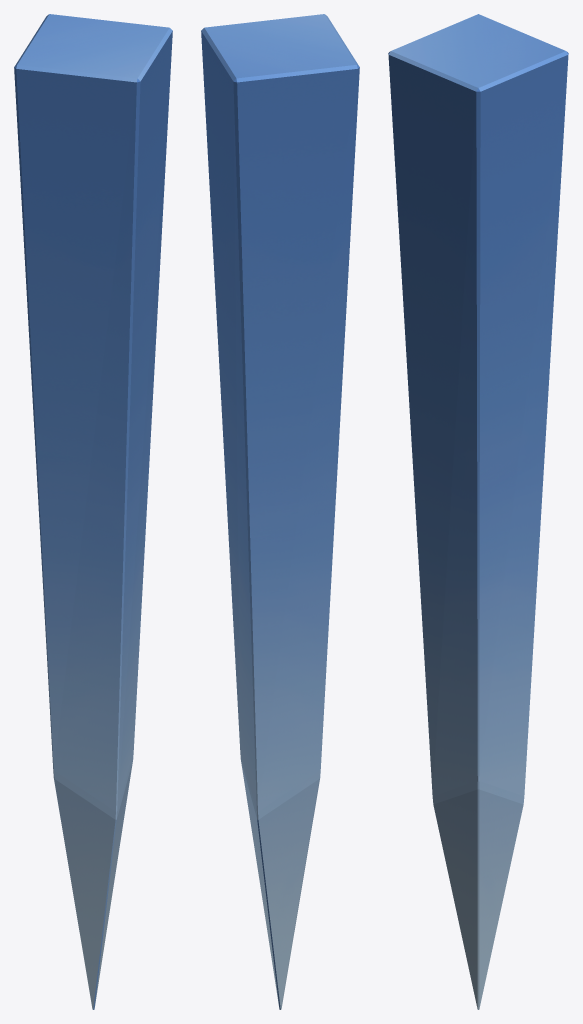
File: icicle_R_3.fbx
The picture shows the model from 3 angles, left to right: view 1: azimuth 30°, elevation 25°; view 2: azimuth 150°, elevation 25°; view 3: azimuth 270°, elevation 25°; orthographic projection.
Visible parts, largest first — view 1: icicle 4 R; view 2: icicle 4 R; view 3: icicle 4 R.
Part boxes in pixels (x1,y1,x2,y2): icicle 4 R: [14, 14, 172, 1009]; icicle 4 R: [201, 14, 359, 1009]; icicle 4 R: [388, 14, 568, 1009].
Size of the model in its own units: 70.58 by 415 by 70.58.
1 material, 1 textured.
